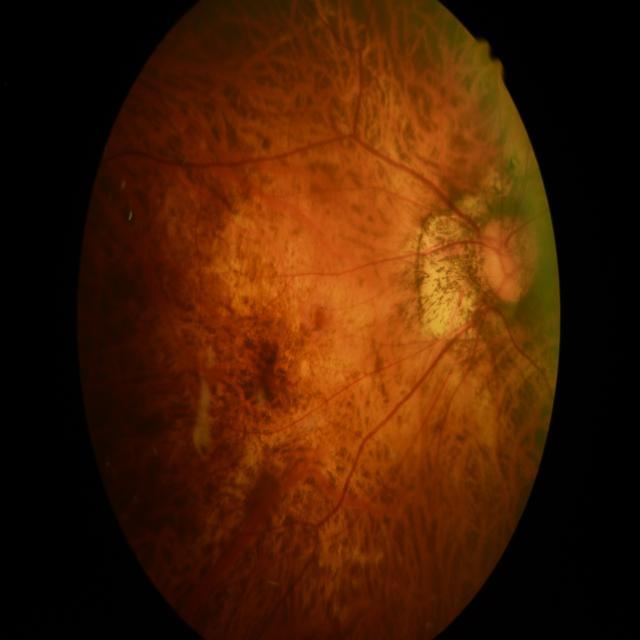cup: (489, 242, 522, 290)
disk: (482, 214, 536, 302)
